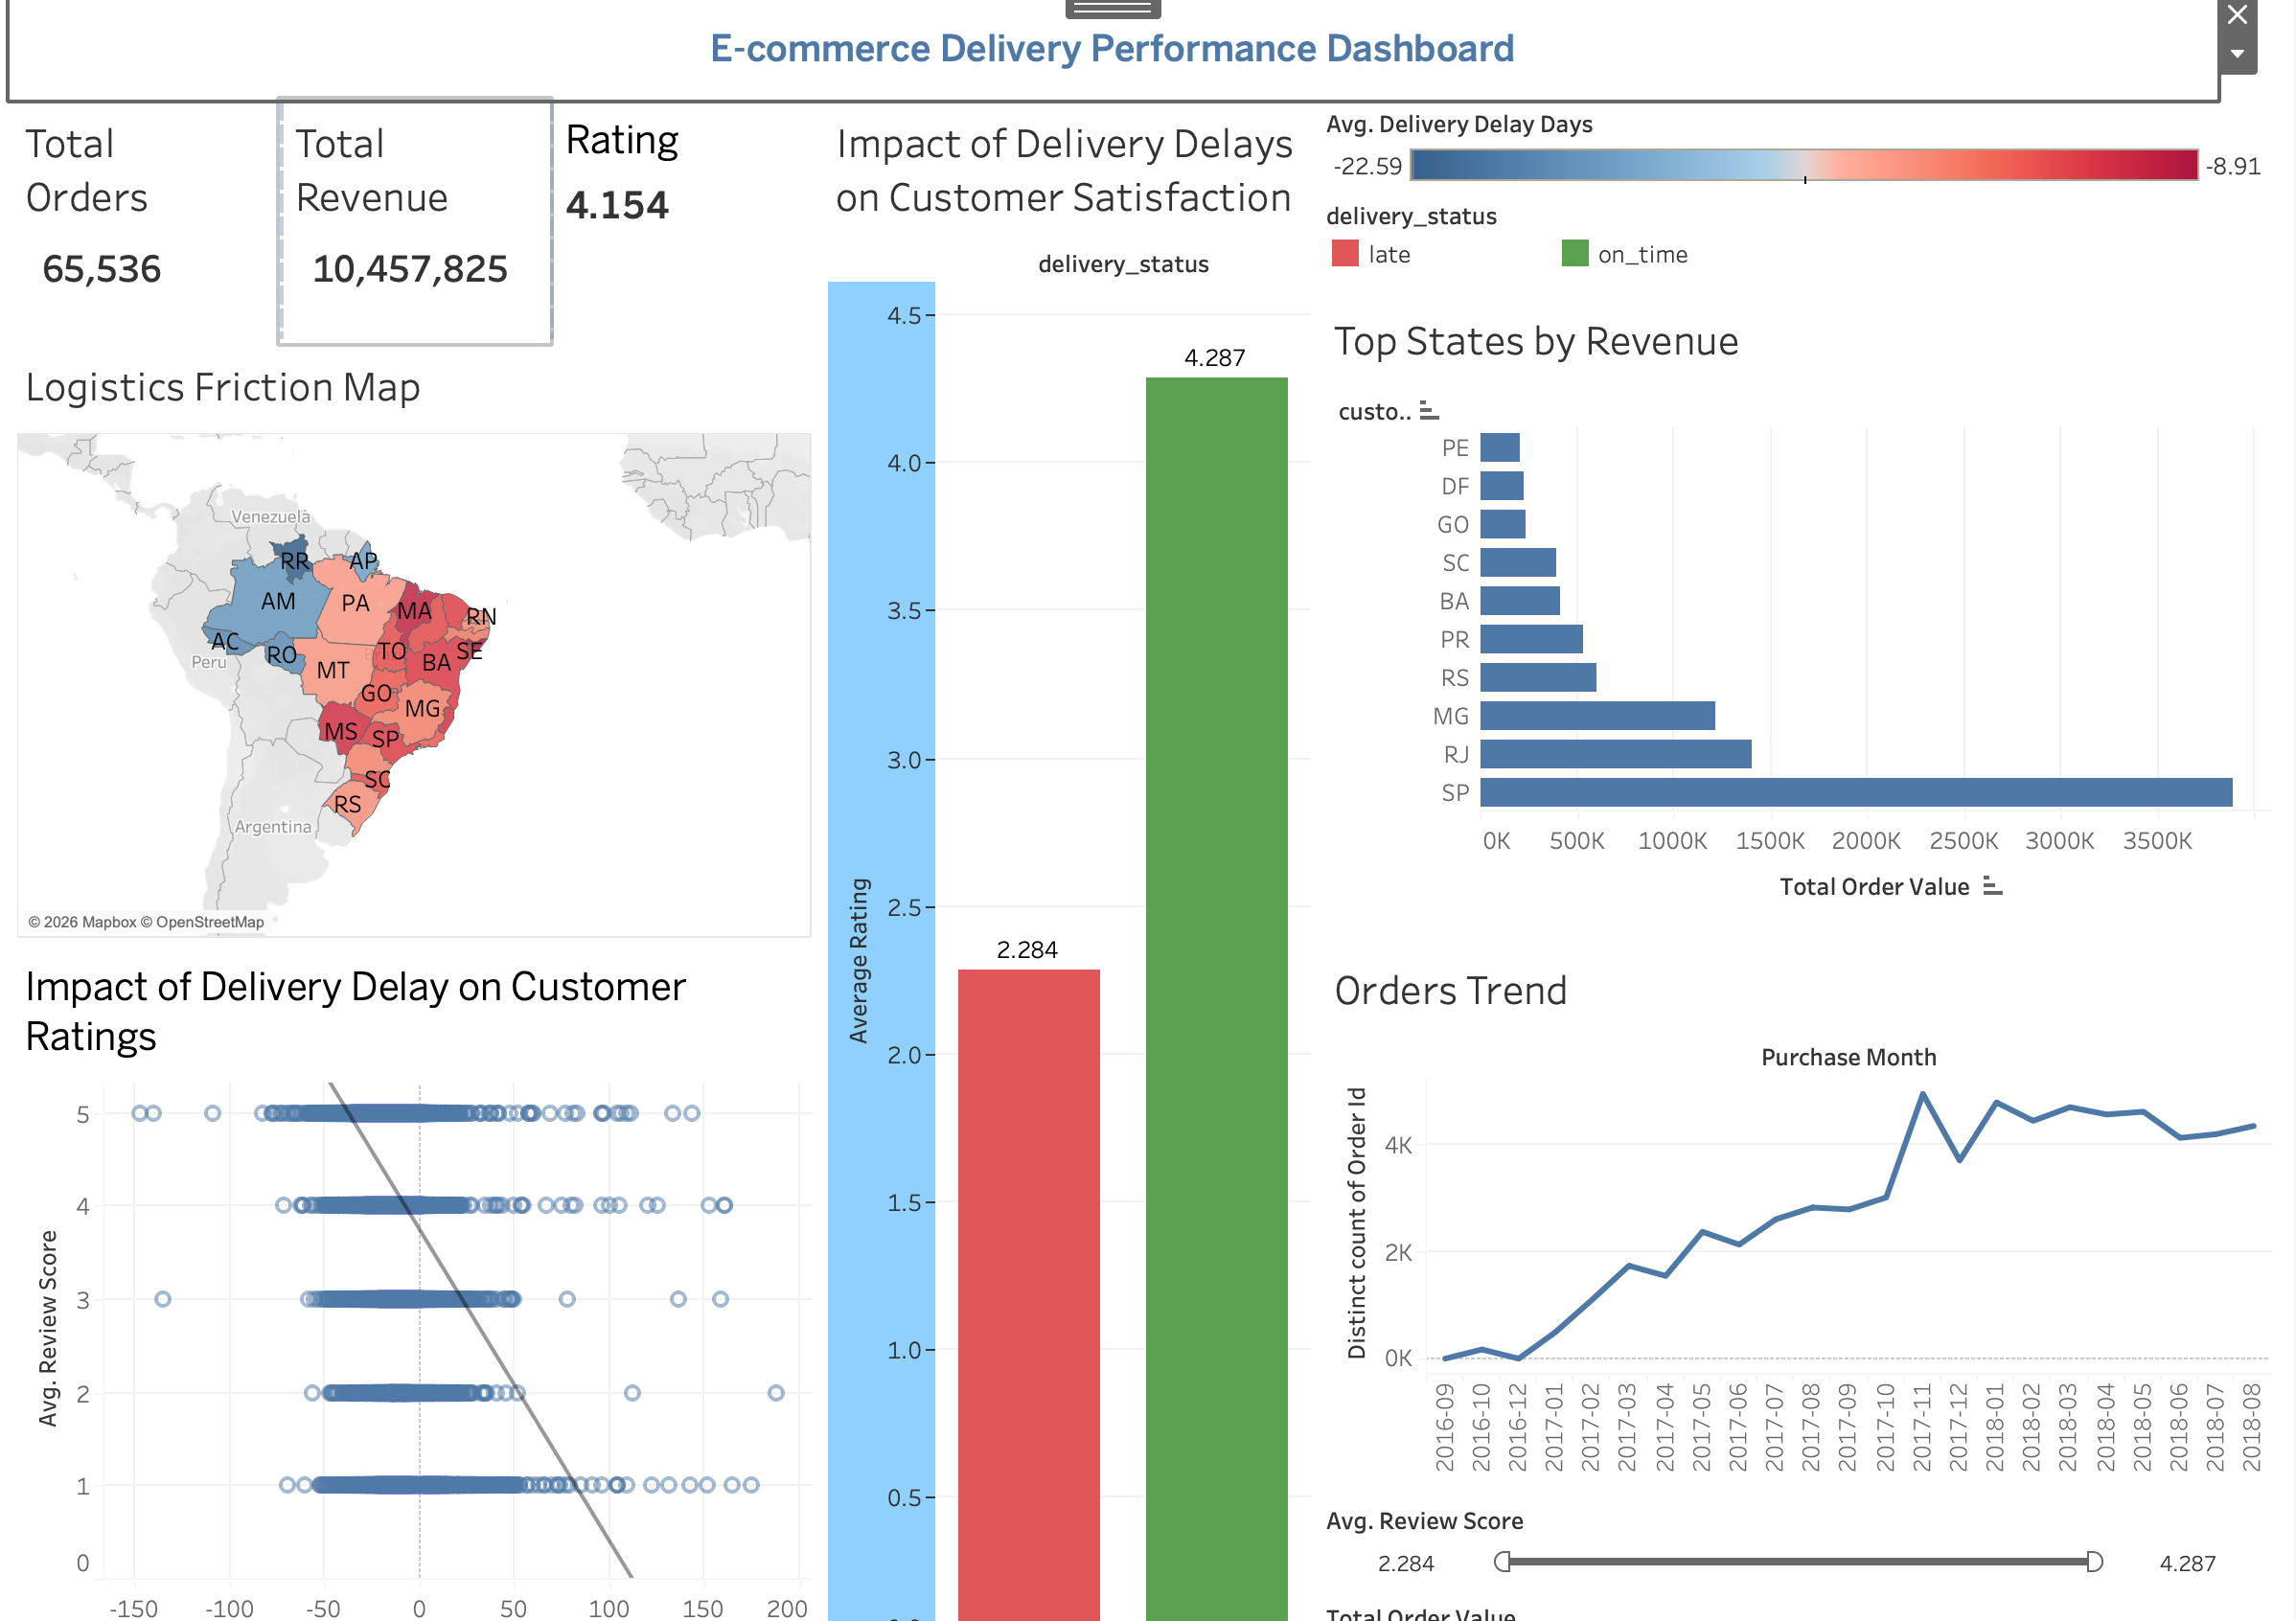

Layout of this report page (visuals, bound fields, positions):
{"tool":"tableau","page":{"name":"Dashboard 2","canvas":[1200,900],"ordinal":1},"visuals":[{"type":"text","box":[8,8,1152,53]},{"type":"worksheet","title":"Total Orders","mark":"Automatic","box":[8,61,141,127]},{"type":"worksheet","title":"Total Revenue","mark":"Automatic","box":[149,61,141,127]},{"type":"worksheet","title":"Rating2","mark":"Automatic","box":[290,61,141,127]},{"type":"worksheet","title":"Impact of Delivery Delays on Customer Satisfaction","mark":"Automatic","rows":["review_score"],"cols":["delivery_status"],"box":[431,61,260,831]},{"type":"legend","title":"Logistics Friction Map","param":"[federated.1o83fi11gsy8wt1391ijl0rx2918].[avg:delivery_delay_days:qk]","box":[691,61,501,48]},{"type":"legend","title":"Impact of Delivery Delays on Customer Satisfaction","param":"[federated.1o83fi11gsy8wt1391ijl0rx2918].[none:delivery_status:nk]","box":[691,109,501,55]},{"type":"worksheet","title":"Top States by Revenue","mark":"Automatic","rows":["customer_state"],"cols":["total_order_value"],"box":[691,164,501,339]},{"type":"worksheet","title":"Logistics Friction Map","mark":"Multipolygon","box":[8,188,423,315]},{"type":"worksheet","title":"Rating vs Delay","mark":"Automatic","rows":["review_score"],"cols":["delivery_delay_days"],"box":[8,503,423,389]},{"type":"worksheet","title":"Orders Trend","mark":"Line","rows":["order_id"],"cols":["purchase_month"],"box":[691,503,501,287]},{"type":"filter","title":"Impact of Delivery Delays on Customer Satisfaction","param":"[federated.1o83fi11gsy8wt1391ijl0rx2918].[avg:review_score:qk]","box":[691,790,501,51]},{"type":"filter","title":"Top States by Revenue","param":"[federated.1o83fi11gsy8wt1391ijl0rx2918].[sum:total_order_value:qk]","box":[691,841,501,51]}]}

Visuals, with their boxes on the page's 1200x900 design canvas (x1, y1, x2, y2). These are canvas units, not pixel positions in the 2296x1621 screenshot, which may show the page scaled, cropped or inside an application window:
text: [8, 8, 1160, 61]
"Total Orders" worksheet: [8, 61, 149, 188]
"Total Revenue" worksheet: [149, 61, 290, 188]
"Rating2" worksheet: [290, 61, 431, 188]
"Impact of Delivery Delays on Customer Satisfaction" worksheet: [431, 61, 691, 892]
"Logistics Friction Map" legend: [691, 61, 1192, 109]
"Impact of Delivery Delays on Customer Satisfaction" legend: [691, 109, 1192, 164]
"Top States by Revenue" worksheet: [691, 164, 1192, 503]
"Logistics Friction Map" worksheet (Multipolygon marks): [8, 188, 431, 503]
"Rating vs Delay" worksheet: [8, 503, 431, 892]
"Orders Trend" worksheet (Line marks): [691, 503, 1192, 790]
"Impact of Delivery Delays on Customer Satisfaction" filter: [691, 790, 1192, 841]
"Top States by Revenue" filter: [691, 841, 1192, 892]
